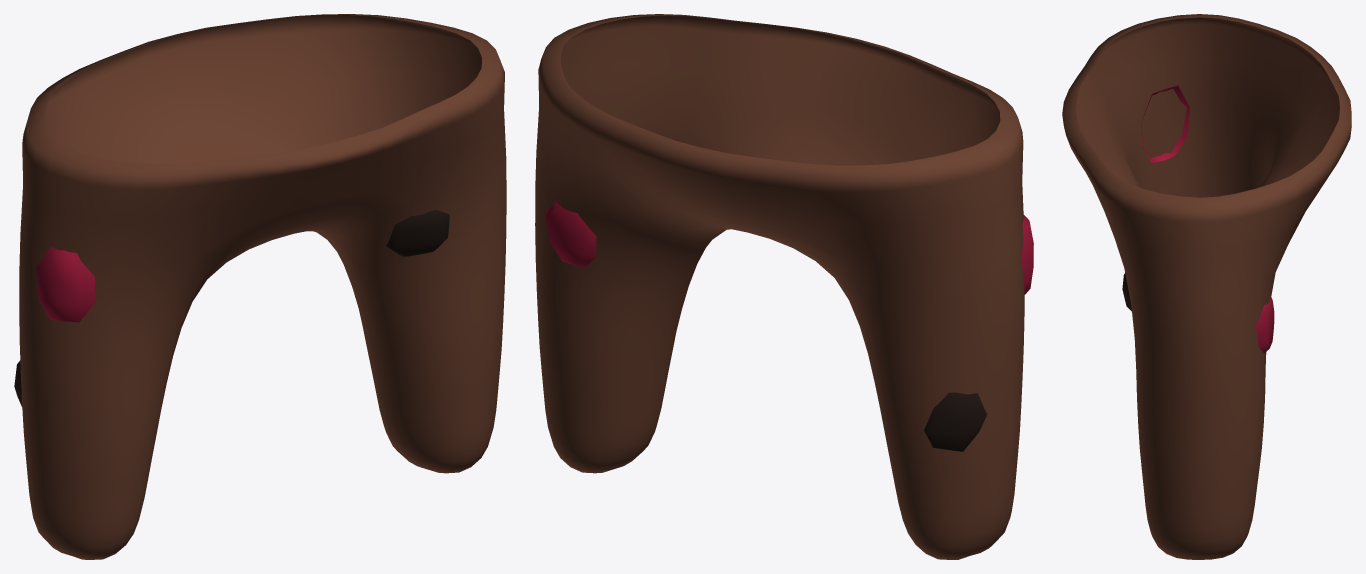
The model's file is 16布丁裤.fbx.
3 views of the same model, side by side, from view 1: azimuth 30°, elevation 25°; view 2: azimuth 150°, elevation 25°; view 3: azimuth 270°, elevation 25° (orthographic). The views are drawn at different scales.
Visible parts, largest first — view 1: 16布丁裤; view 2: 16布丁裤; view 3: 16布丁裤.
Part boxes in pixels (x1,y1,x2,y2): 16布丁裤: [14, 14, 506, 559]; 16布丁裤: [535, 14, 1033, 559]; 16布丁裤: [1062, 14, 1351, 559].
Bounding box in the file's own units: 0.621 × 0.5232 × 0.3705.
